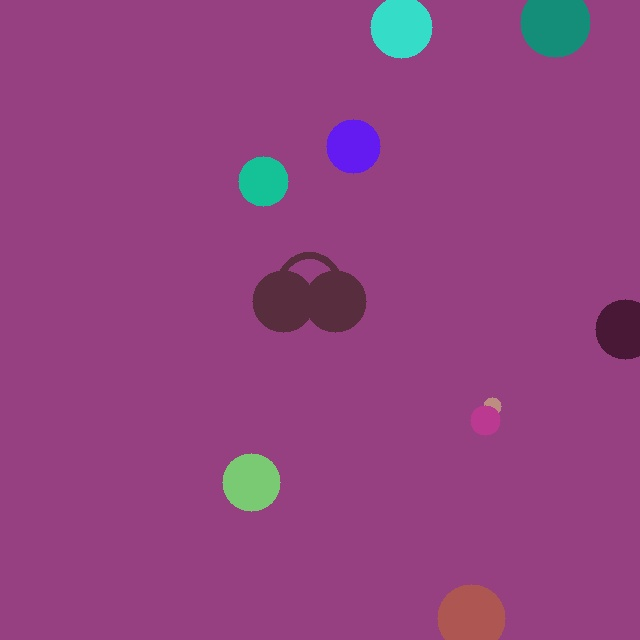over_ear: (248, 249, 370, 336)
